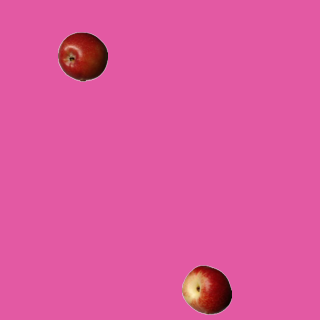Apple Braeburn: (57, 31, 107, 81)
Nectarine: (181, 264, 231, 314)
